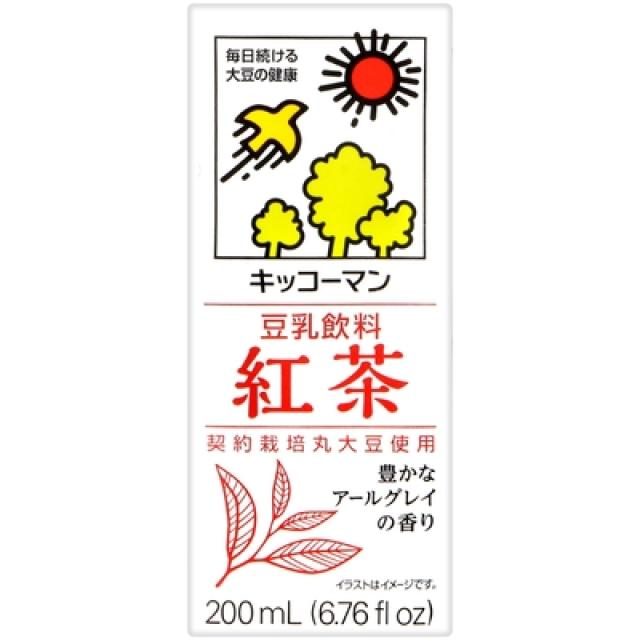Aluminium Foil: (179, 0, 458, 640)
